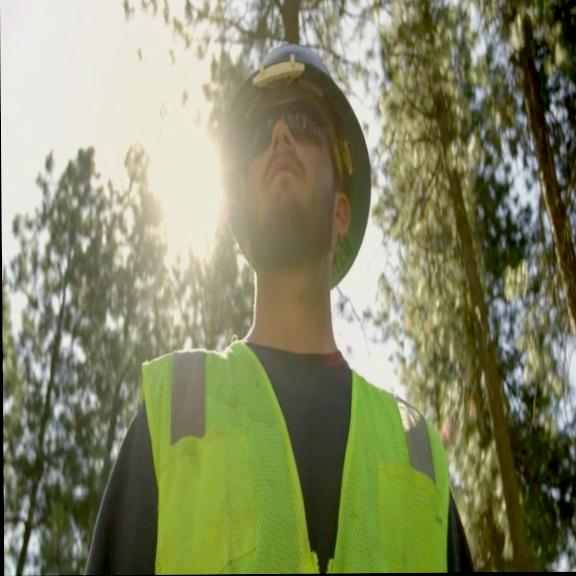safety_vest: (141, 338, 451, 575)
